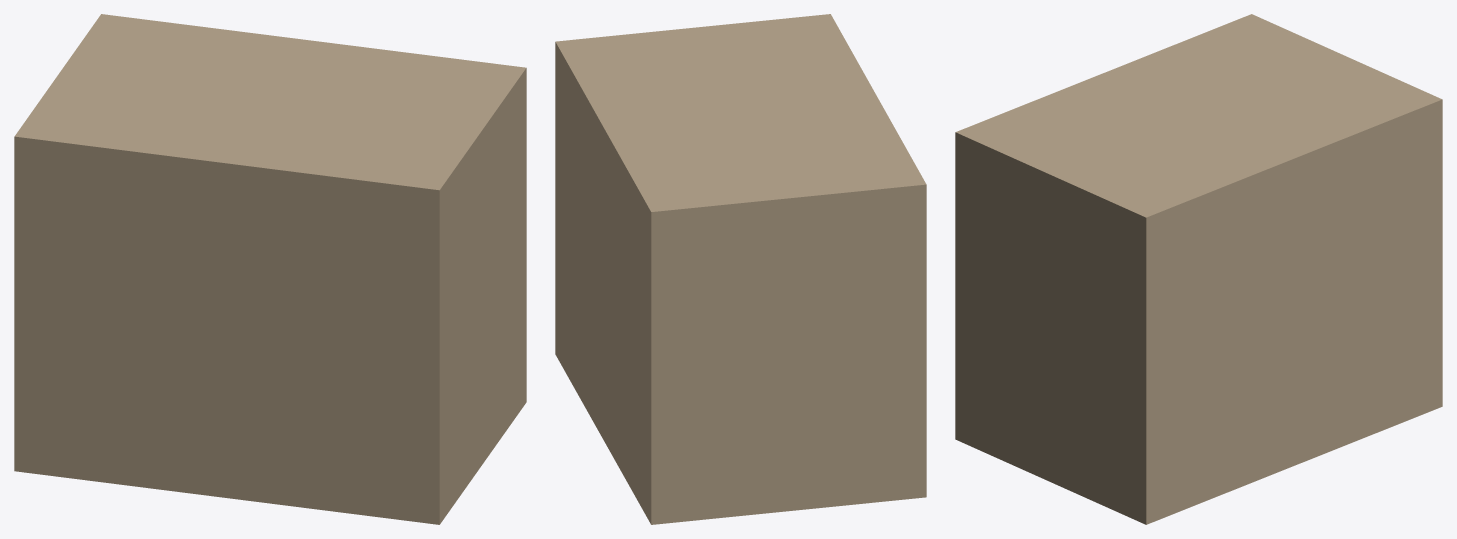
File: bld_108400930.dae
The picture shows the model from 3 angles, left to right: view 1: azimuth 30°, elevation 25°; view 2: azimuth 150°, elevation 25°; view 3: azimuth 270°, elevation 25°; orthographic projection. The views are drawn at different scales.
Parts seen in each view (by area): view 1: bld_108400930; view 2: bld_108400930; view 3: bld_108400930.
Boxes of the visible parts, left/top/right/bottom form: bld_108400930: left=14, top=14, right=526, bottom=524; bld_108400930: left=555, top=14, right=926, bottom=524; bld_108400930: left=955, top=14, right=1442, bottom=524.
Bounding box in the file's own units: 11.37 × 11.49 × 8.
